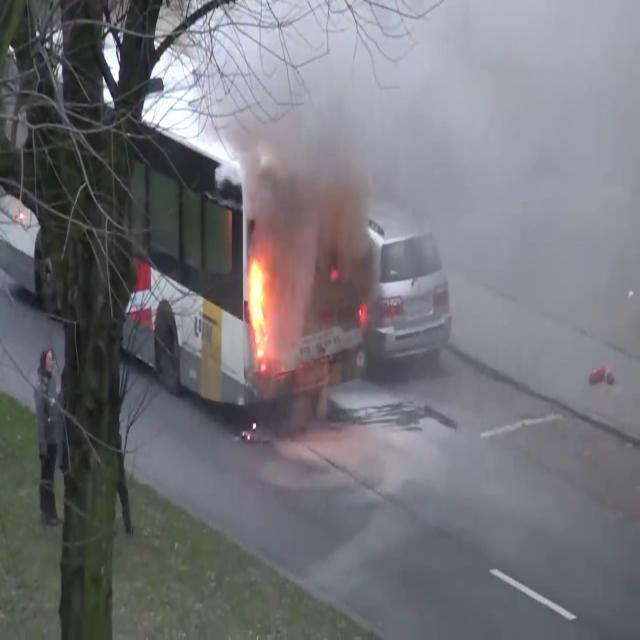Fire: (244, 242, 274, 365)
Smoke: (238, 1, 466, 280)
